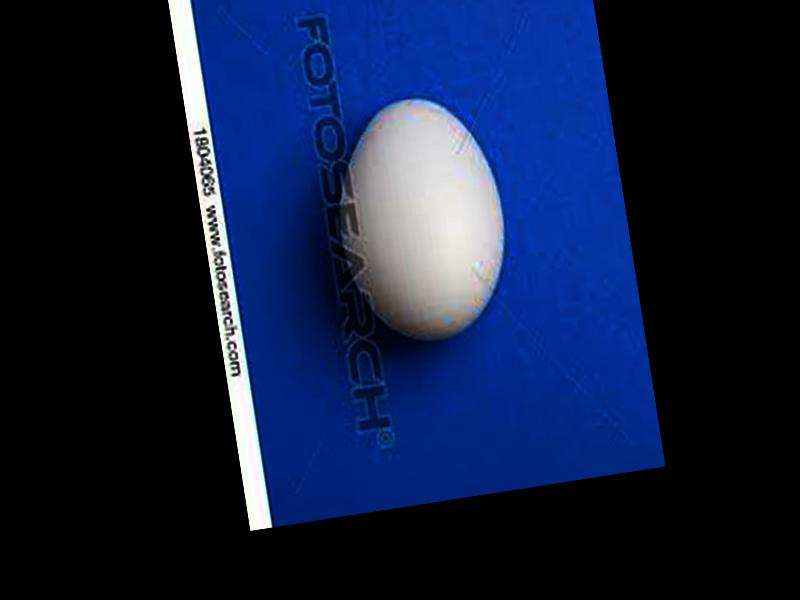Eggs: (317, 88, 519, 353)
